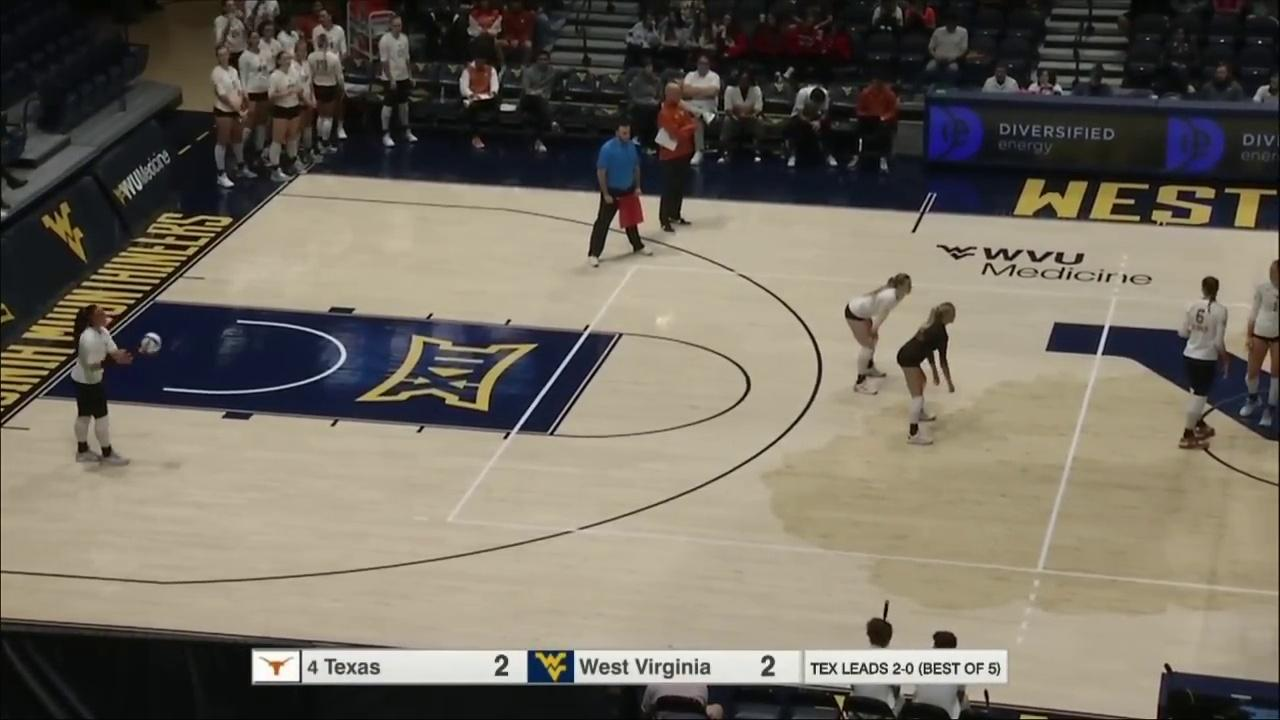player: (73, 305, 134, 467), (1178, 275, 1229, 453), (897, 302, 961, 441), (847, 271, 913, 395), (1239, 259, 1280, 426)
refree: (587, 124, 653, 265)
